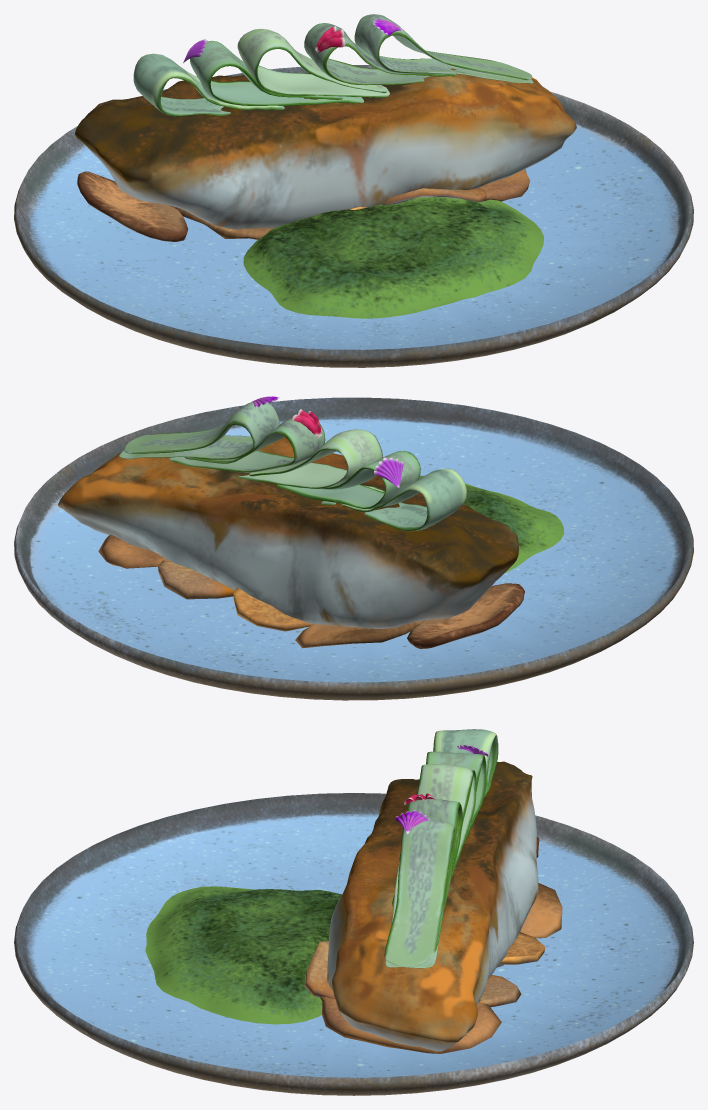
File: fish.glb
The picture shows the model from 3 angles, top to bottom: view 1: azimuth 30°, elevation 25°; view 2: azimuth 150°, elevation 25°; view 3: azimuth 270°, elevation 25°; orthographic projection.
Parts seen in each view (by area): view 1: fish_all_L.006; view 2: fish_all_L.006; view 3: fish_all_L.006.
Part boxes in pixels (x1,y1,x2,y2): fish_all_L.006: [14, 14, 693, 367]; fish_all_L.006: [14, 396, 693, 700]; fish_all_L.006: [14, 729, 693, 1095].
Bounding box in the file's own units: 2.65 × 0.7605 × 2.65.
1 material, 1 textured.
